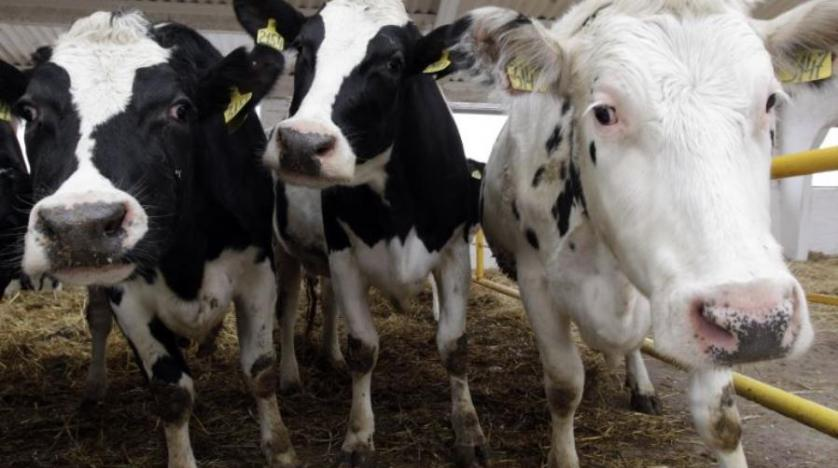muzzles: (646, 268, 818, 372), (17, 197, 169, 286), (261, 116, 359, 191)
